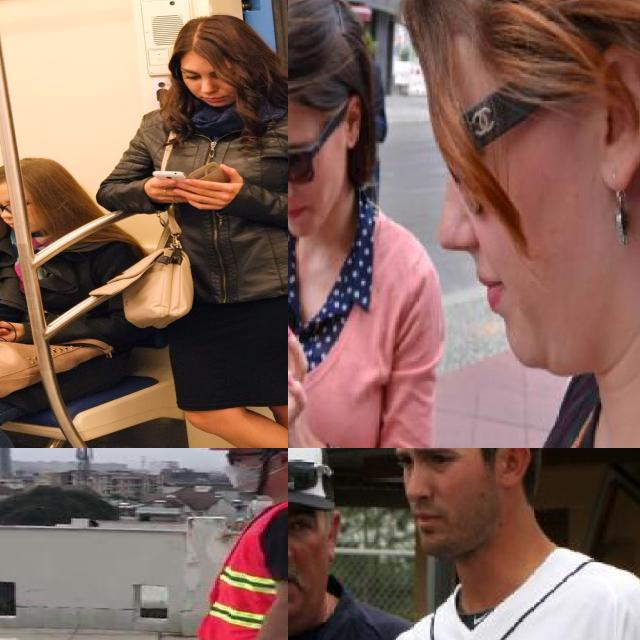No_Ear-Protection: (583, 39, 640, 197)
face_mask: (214, 448, 276, 493)
face_nomask: (420, 90, 571, 358), (397, 448, 471, 537), (288, 128, 331, 233), (288, 509, 322, 604)
glasses: (288, 451, 335, 494), (288, 131, 320, 186)
hand_noglove: (288, 290, 328, 448)
head_nohelmet: (409, 0, 640, 84), (288, 13, 358, 110), (288, 448, 343, 518)
person: (288, 0, 439, 448), (353, 448, 640, 640), (288, 448, 454, 640), (170, 448, 288, 640)
vest: (201, 505, 288, 640)
